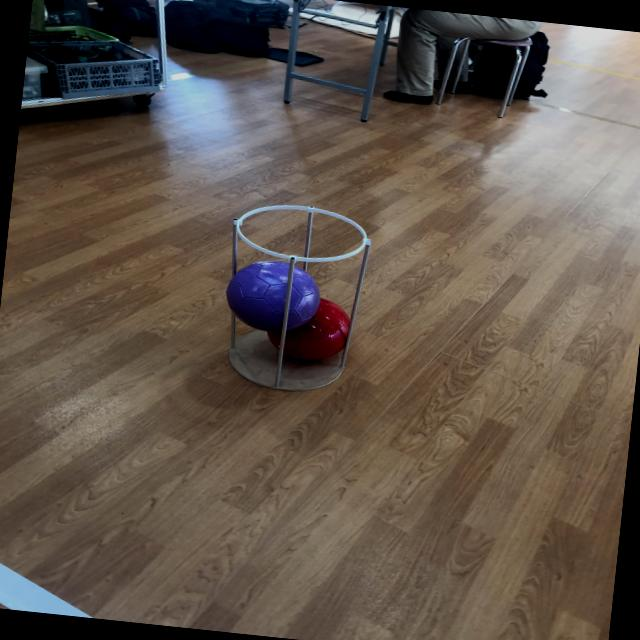purple_ball: (222, 255, 324, 332)
red_ball: (264, 294, 356, 368)
